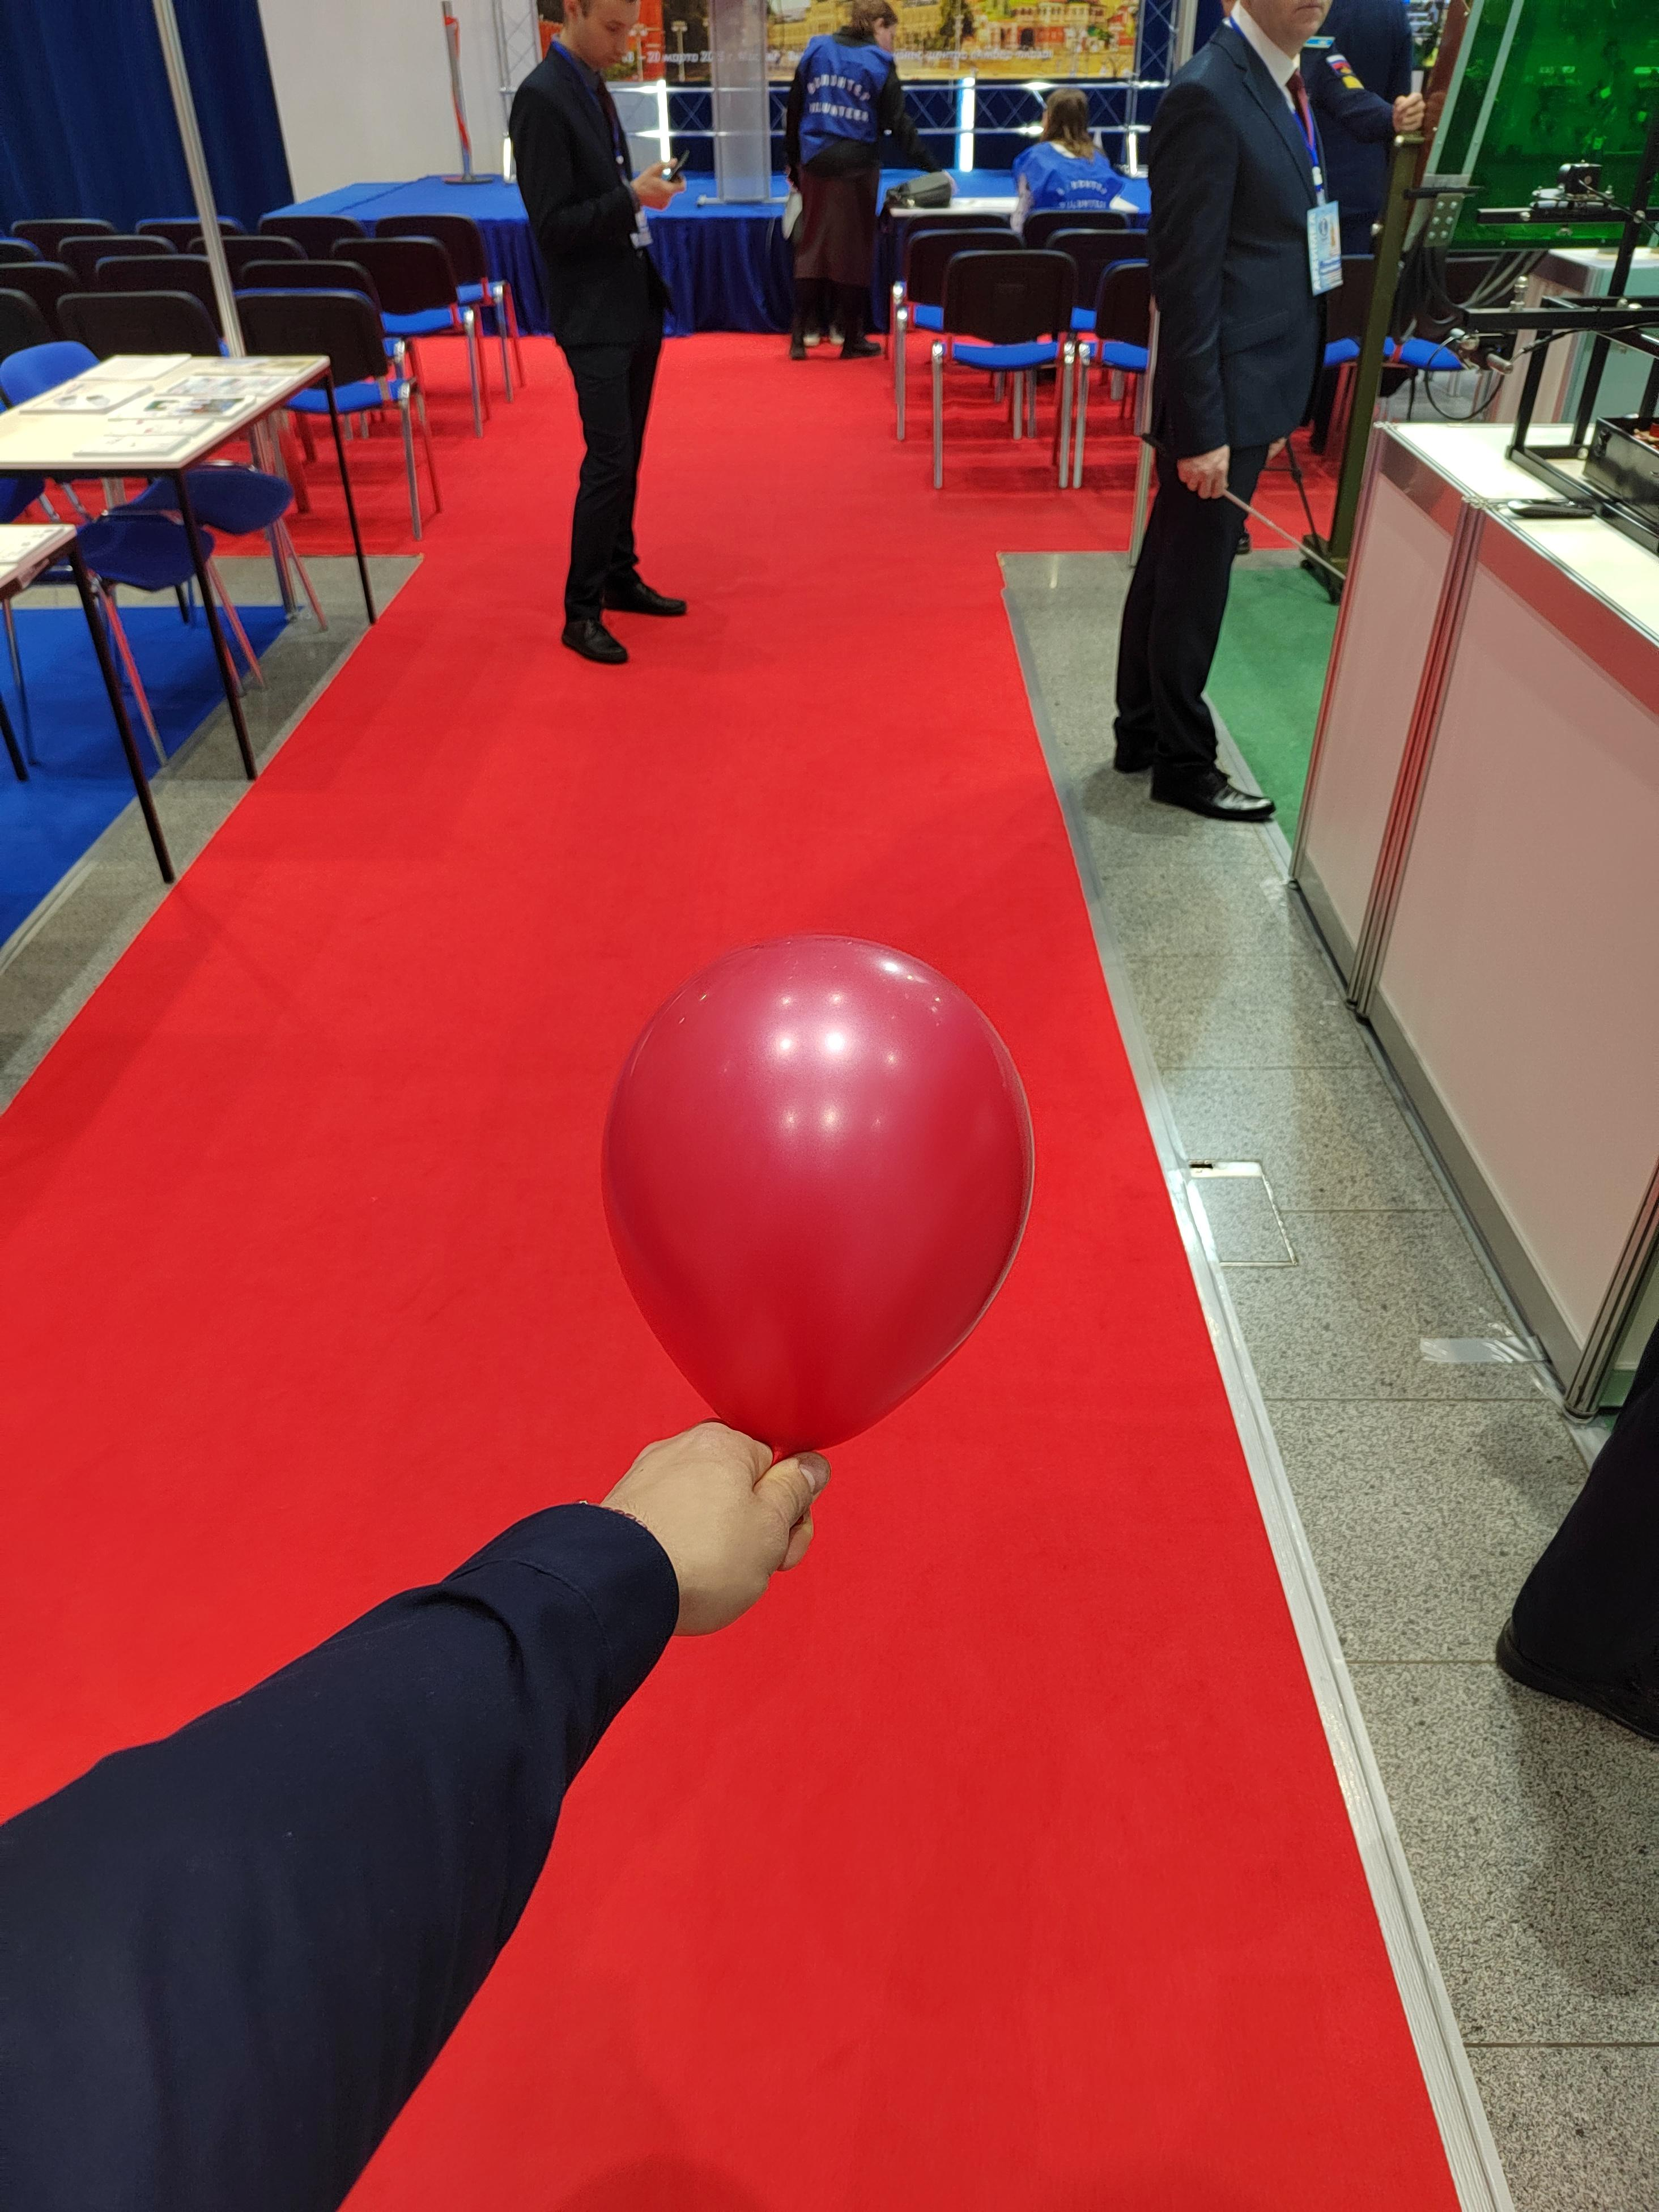red: (589, 920, 1044, 1482)
